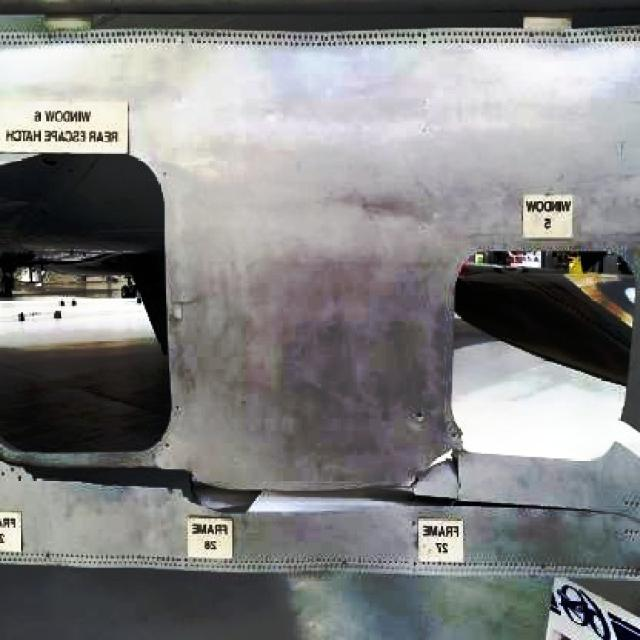crack: (461, 499, 637, 518)
